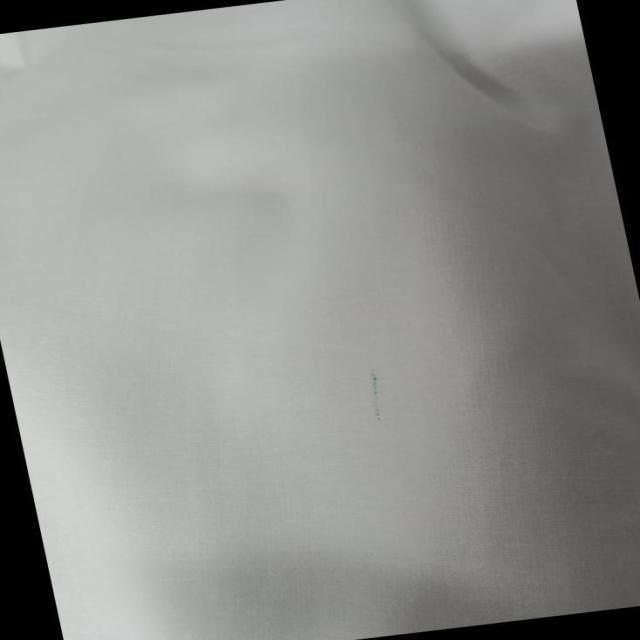contamination: (361, 359, 393, 428)
